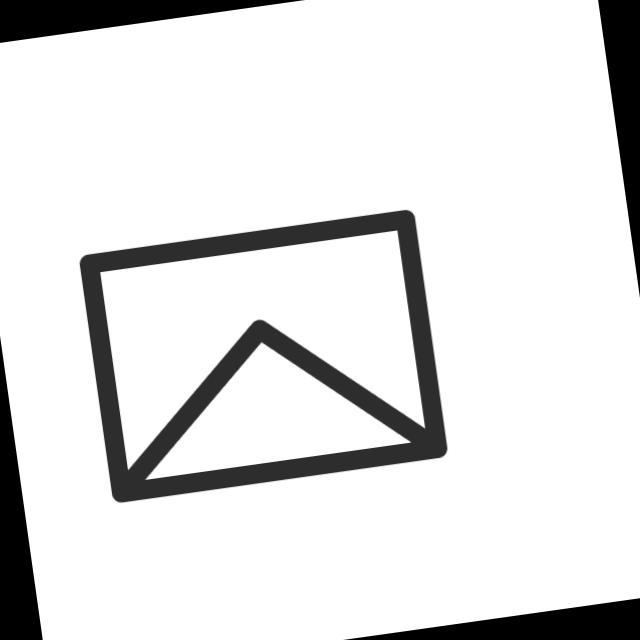letter: (78, 204, 457, 508)
